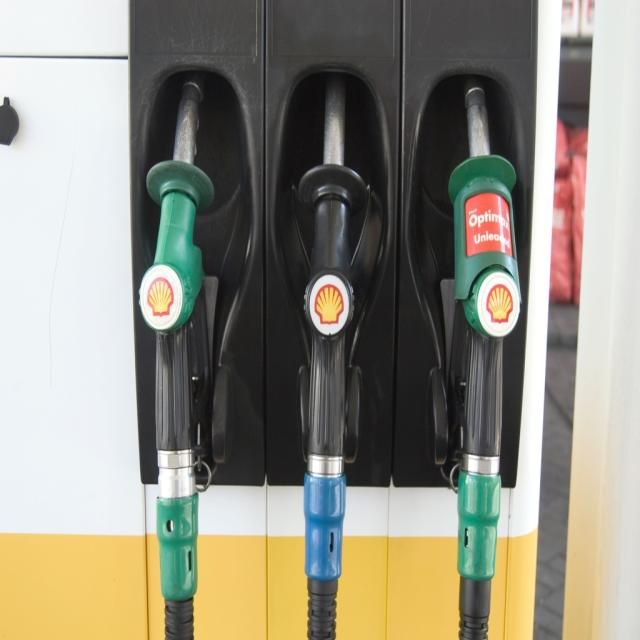shell: (315, 284, 346, 330), (485, 284, 516, 330), (147, 276, 177, 322)
